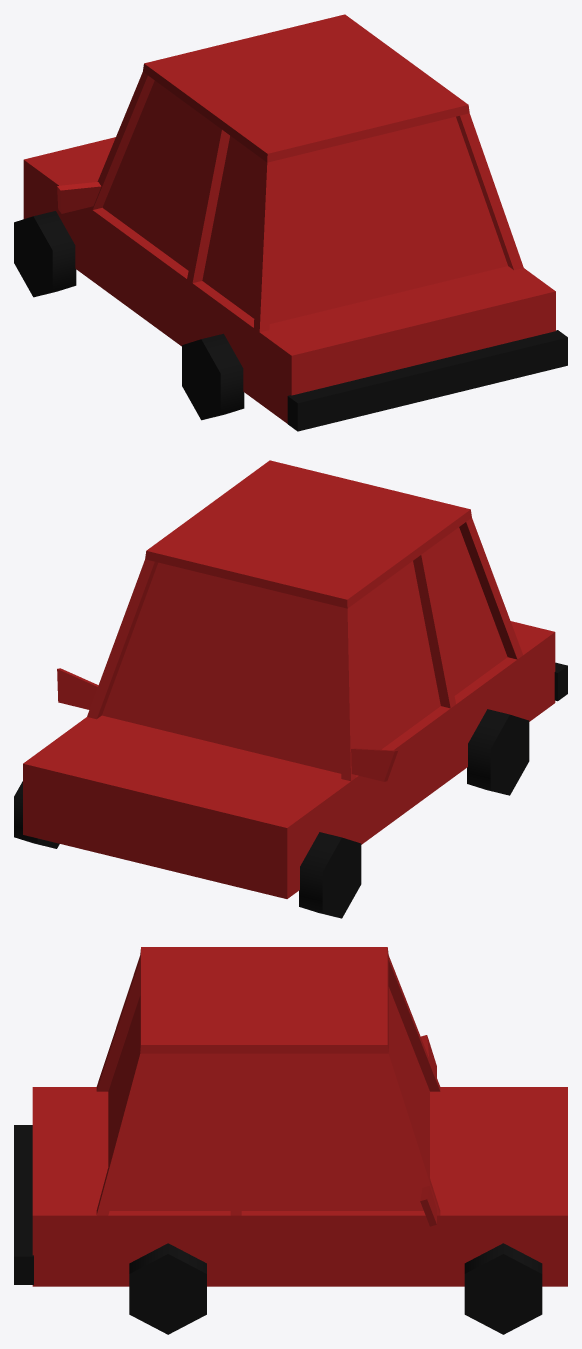
File: Car.FBX
3 views of the same model, one above another, from view 1: azimuth 30°, elevation 25°; view 2: azimuth 150°, elevation 25°; view 3: azimuth 270°, elevation 25° (orthographic).
Visible parts, largest first — view 1: Cylinder004; view 2: Cylinder004; view 3: Cylinder004.
Boxes of the visible parts, x1,y1,x2,y2 form: Cylinder004: [14, 14, 567, 431]; Cylinder004: [14, 460, 567, 918]; Cylinder004: [14, 947, 567, 1334].
Bounding box in the file's own units: 10 × 7.46 × 14.24.
